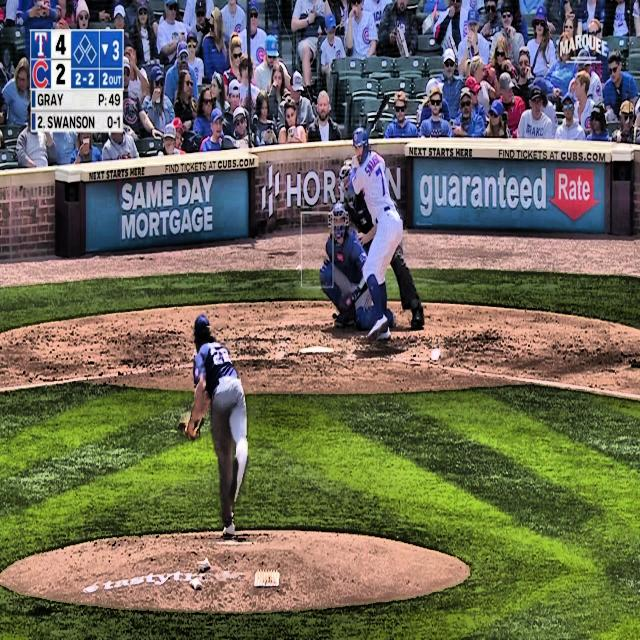baseball: (296, 262, 302, 274)
